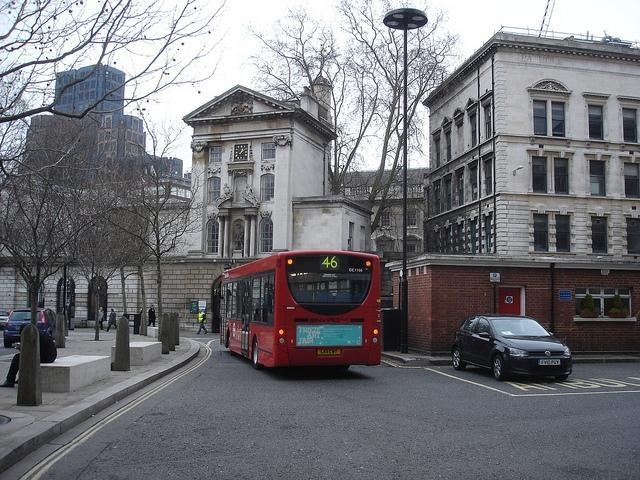bus: (213, 250, 382, 379)
car: (450, 312, 574, 382), (4, 308, 56, 348), (0, 311, 9, 329)
